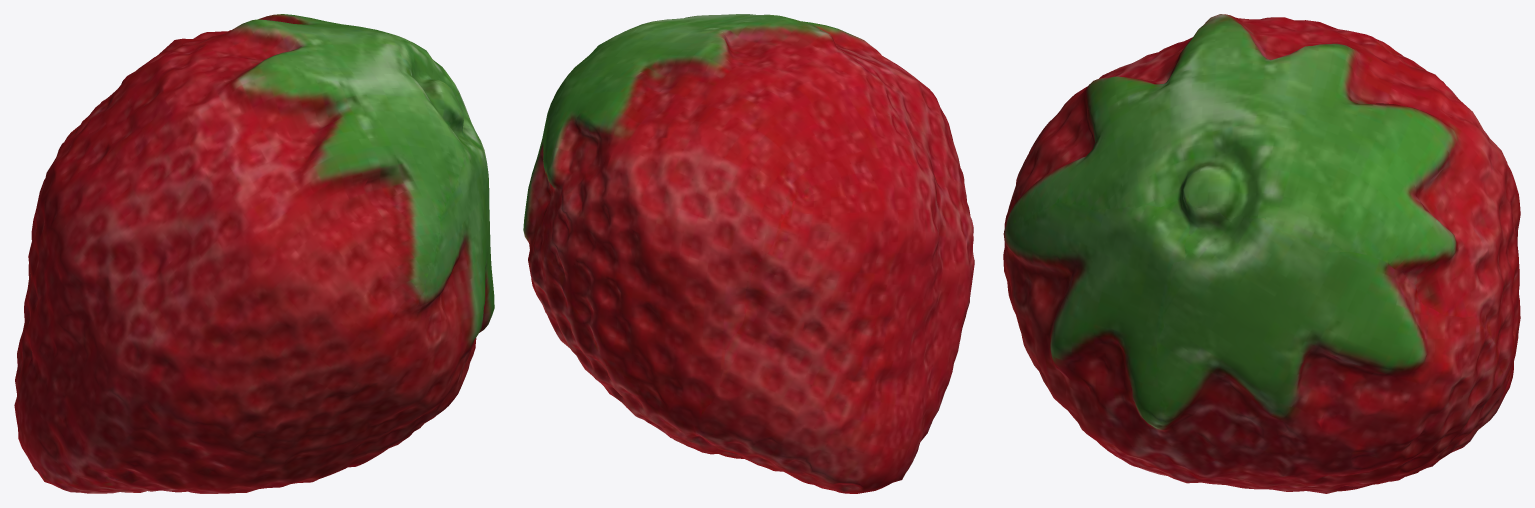
Rendered from ddg-ycb_012_strawberry.glb.
3 views of the same model, side by side, from view 1: azimuth 30°, elevation 25°; view 2: azimuth 150°, elevation 25°; view 3: azimuth 270°, elevation 25° (orthographic). The views are drawn at different scales.
Parts seen in each view (by area): view 1: textured(Clone); view 2: textured(Clone); view 3: textured(Clone).
Part boxes in pixels (left/top/right/bottom): textured(Clone): left=14, top=14, right=494, bottom=493; textured(Clone): left=523, top=14, right=974, bottom=493; textured(Clone): left=1003, top=14, right=1520, bottom=493.
Bounding box in the file's own units: 1.44 × 1.44 × 1.45.
Materials: 1 (1 with a texture image).
